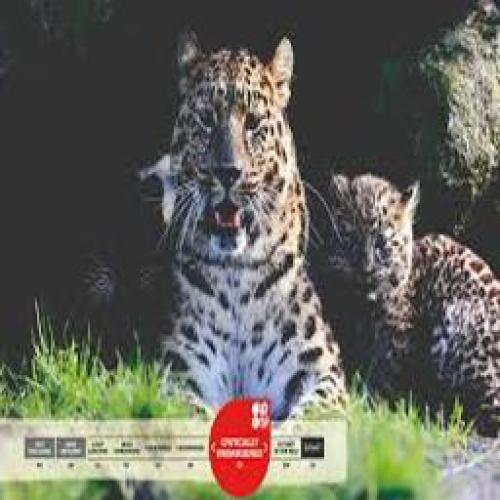amur_leopard-endangered: (148, 31, 346, 414), (325, 171, 500, 422)
